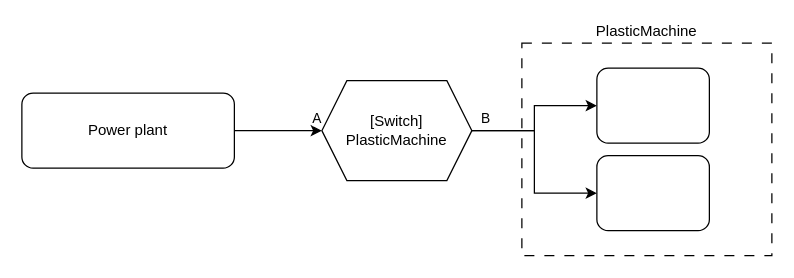
Image size: 794x278. Some labels were removed from this diagram. Each missing label, with the centre of its shape:
Assembler: [652,192]
Constructor: [652,105]
